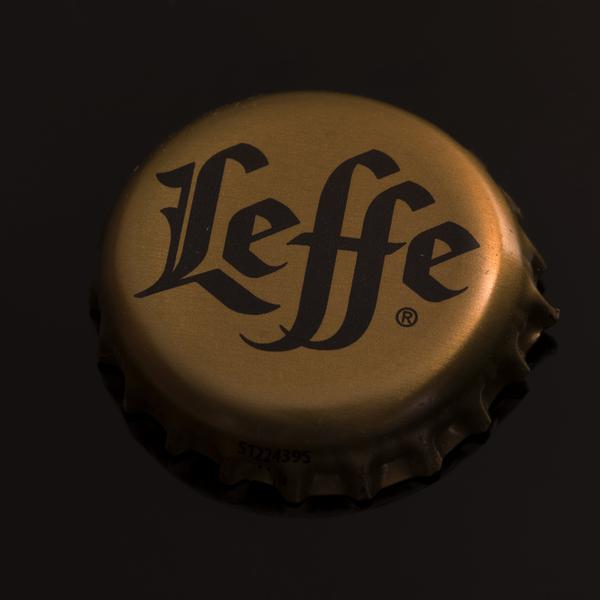leffe: (95, 73, 565, 458)
